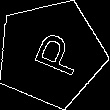P_NW: (20, 26, 82, 80)
